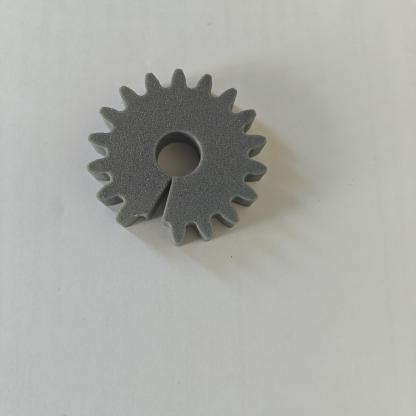defect: (110, 167, 208, 236)
gear: (73, 63, 276, 260)
